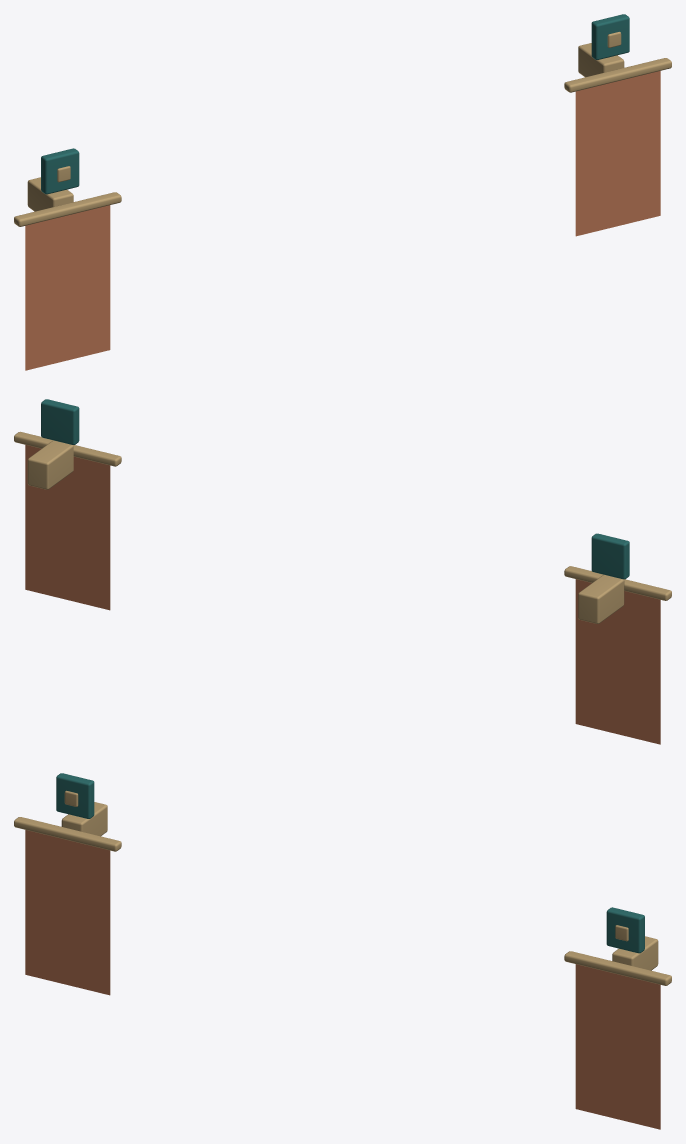
Rendered from doorway.glb.
3 views of the same model, one above another, from view 1: azimuth 30°, elevation 25°; view 2: azimuth 150°, elevation 25°; view 3: azimuth 330°, elevation 25° (orthographic).
Visible parts, largest first — view 1: MorningLinen, MorningLinen.001, Enamel doorway medallion, Enamel doorway medallion.001, Textile rail, Textile rail.001, Wall bracket, Wall bracket.001; view 2: MorningLinen, MorningLinen.001, Wall bracket.001, Wall bracket, Enamel doorway medallion, Enamel doorway medallion.001, Textile rail.001, Textile rail; view 3: MorningLinen.001, MorningLinen, Enamel doorway medallion.001, Enamel doorway medallion, Textile rail, Textile rail.001, Wall bracket.001, Wall bracket.
Part boxes in pixels (<box>): MorningLinen: <box>25,205,110,370</box>; MorningLinen.001: <box>575,71,660,236</box>; Enamel doorway medallion: <box>41,148,79,194</box>; Enamel doorway medallion.001: <box>591,14,629,59</box>; Textile rail: <box>14,192,121,226</box>; Textile rail.001: <box>564,58,671,92</box>; Wall bracket: <box>27,177,73,211</box>; Wall bracket.001: <box>578,43,624,77</box>; MorningLinen: <box>575,579,660,744</box>; MorningLinen.001: <box>25,445,110,610</box>; Wall bracket.001: <box>27,440,73,489</box>; Wall bracket: <box>578,574,624,623</box>; Enamel doorway medallion: <box>591,533,629,579</box>; Enamel doorway medallion.001: <box>41,399,79,444</box>; Textile rail.001: <box>14,431,121,466</box>; Textile rail: <box>564,566,671,600</box>; MorningLinen.001: <box>575,964,660,1129</box>; MorningLinen: <box>25,830,110,995</box>; Enamel doorway medallion.001: <box>606,907,644,953</box>; Enamel doorway medallion: <box>56,773,94,818</box>; Textile rail: <box>14,817,121,851</box>; Textile rail.001: <box>564,951,671,985</box>; Wall bracket.001: <box>612,936,658,970</box>; Wall bracket: <box>61,802,107,836</box>.
Size of the model in its own units: 3.99 by 1.17 by 0.3525.
